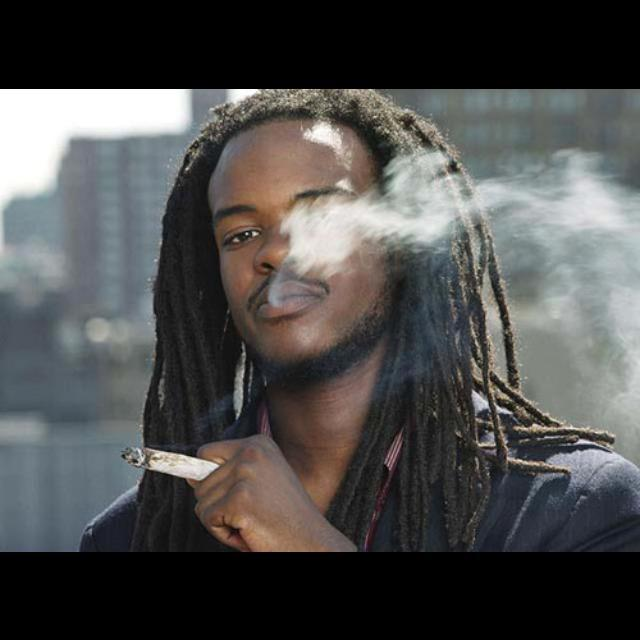rokok: (112, 439, 220, 488)
